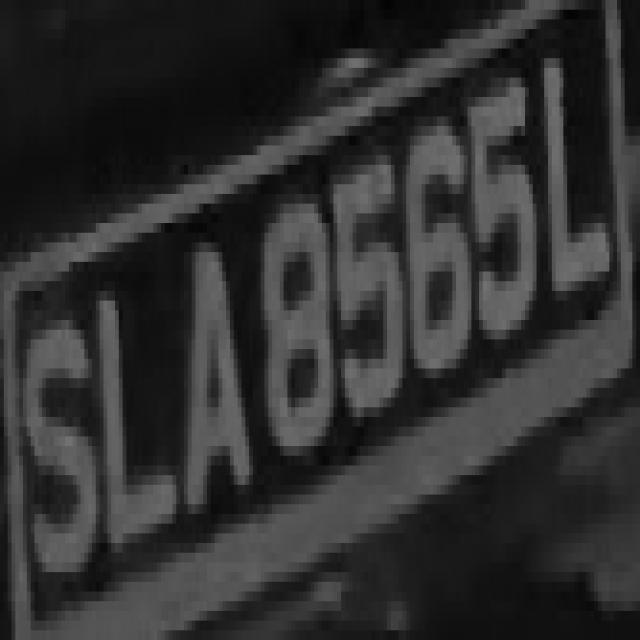5: (460, 97, 544, 359), (330, 156, 406, 437)
6: (398, 126, 483, 407)
8: (245, 194, 341, 494)
A: (172, 223, 253, 553)
L: (88, 242, 184, 543), (536, 58, 624, 301)
S: (8, 291, 104, 630)
